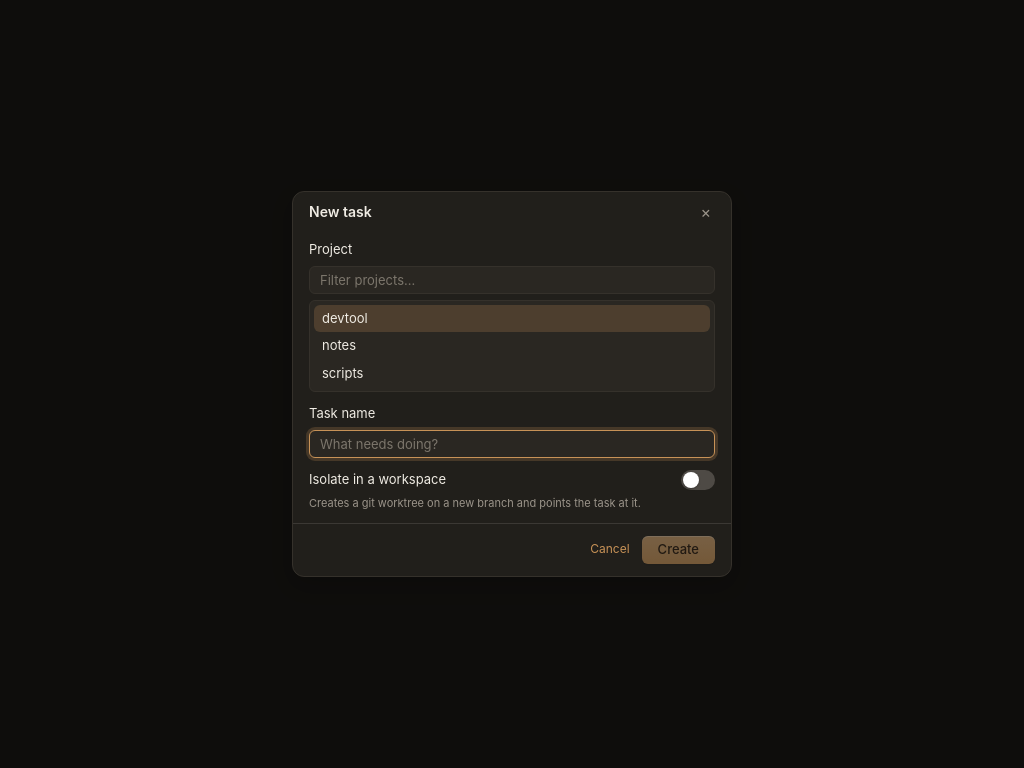
NewTaskModal › keeps the task when the worktree fails, and shows why
Type "Fix the badge" into the field with placeholder "What needs doing?" at (512, 444), box [309,430,715,458]
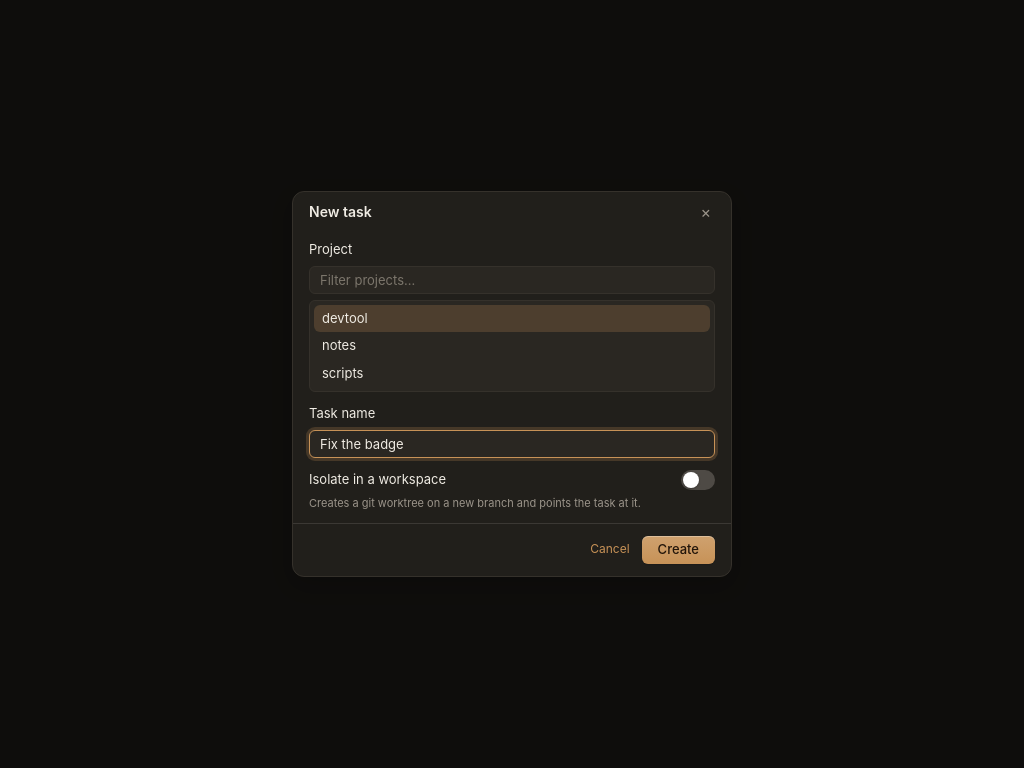
Click the switch at (698, 480), box [681,470,715,490]
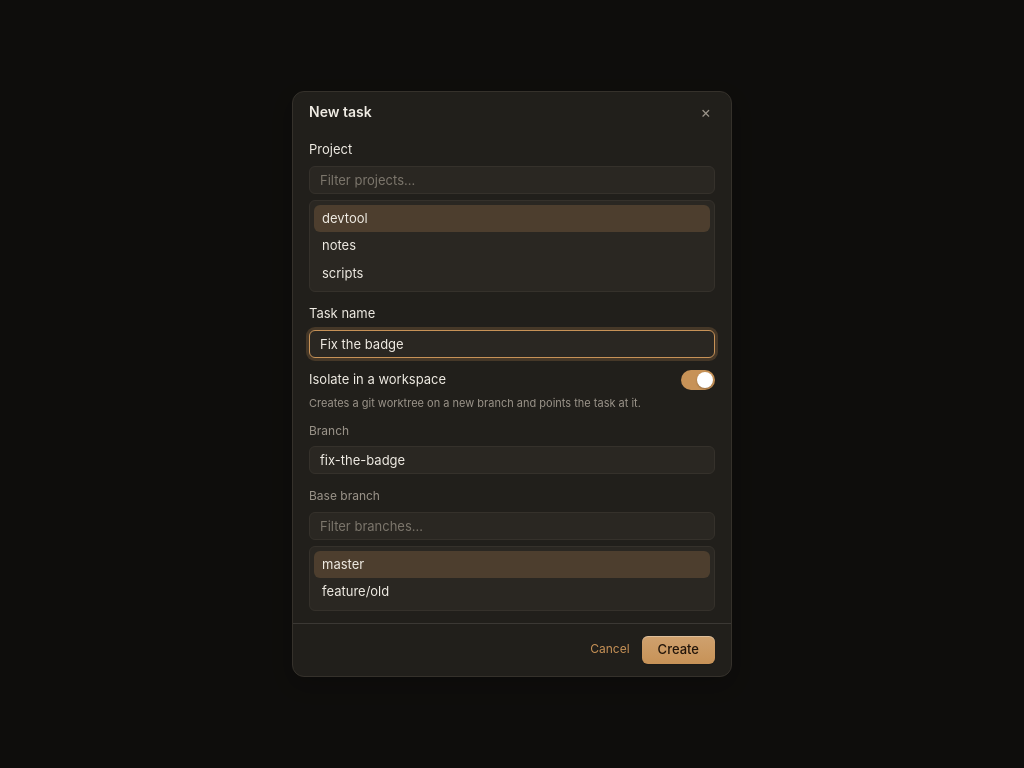
Click the button "Create" at (678, 650), box [642,636,715,664]
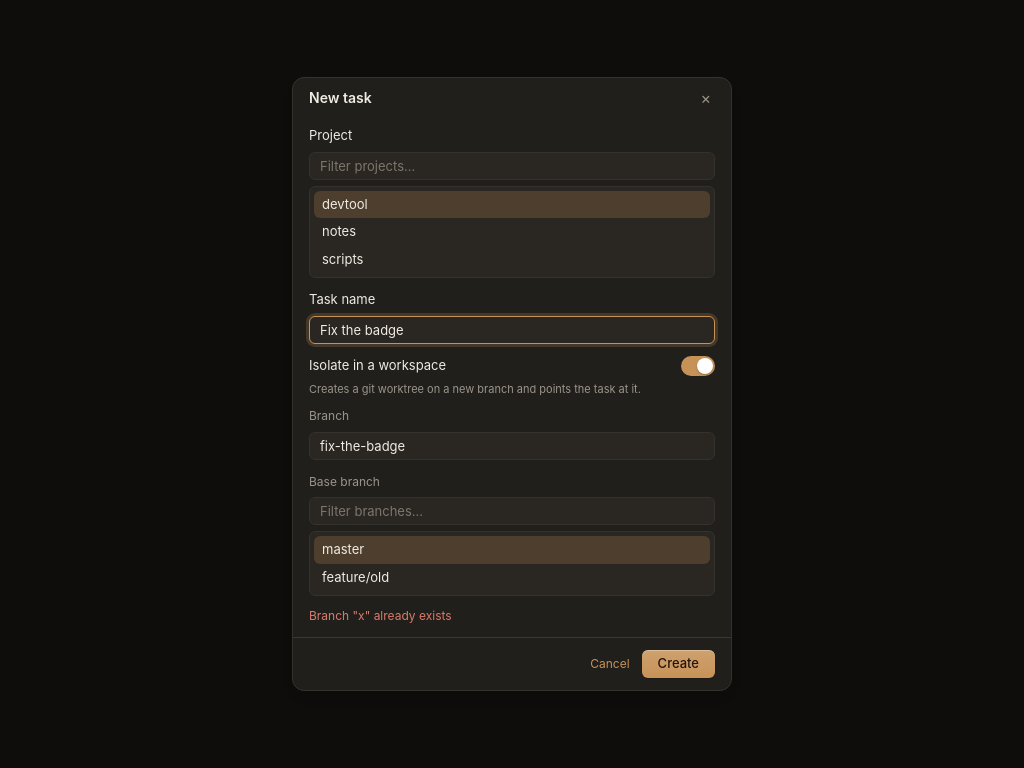
Check: the text "Branch \"x\" already exists" is shown, box [309,608,452,623]
